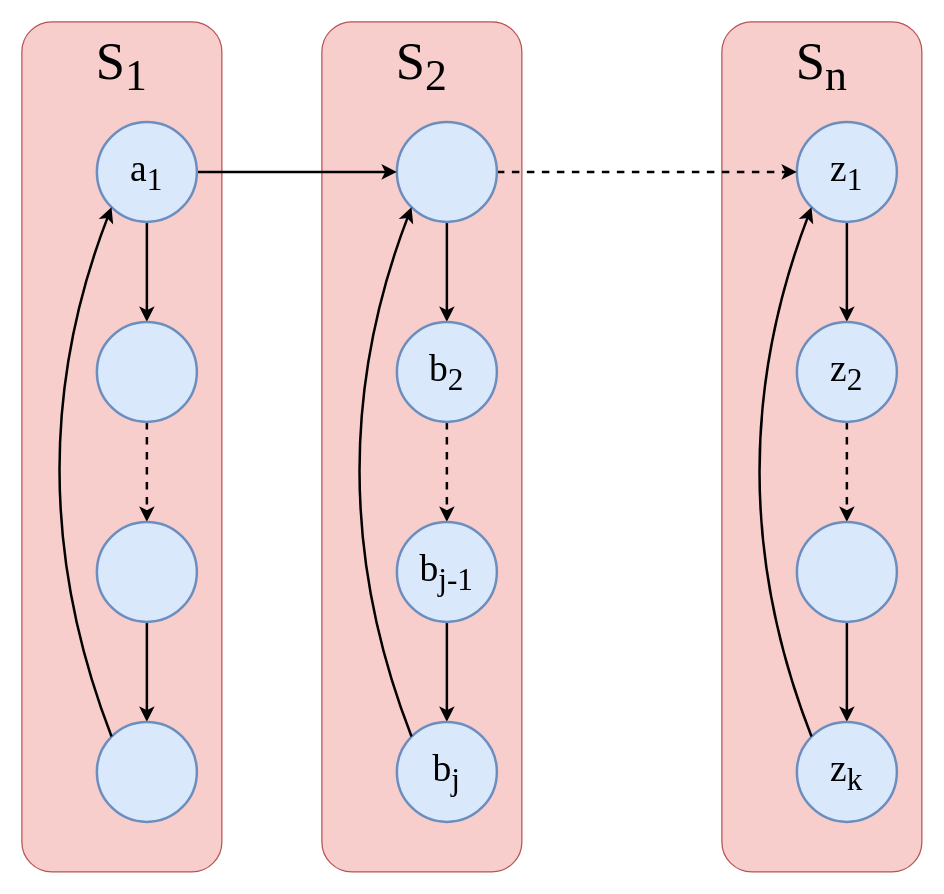
Some shapes in this 944 by 894 pixel diagram are drawn without their labels. The shapes that lost their labels are listed below. From the top down, each one's box as (x1, y1, x2, y2) in pixels, then its label:
(395, 120, 498, 222): b 1
(95, 320, 198, 422): a 2
(95, 520, 198, 622): a i-1
(795, 520, 898, 622): z k-1
(95, 720, 198, 822): a i
